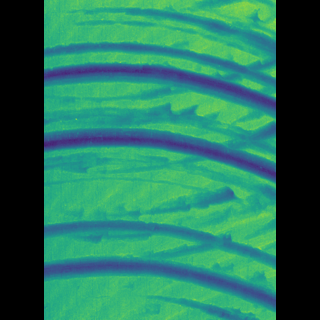Loch: (73, 0, 244, 187), (76, 248, 244, 315), (75, 215, 244, 274), (134, 181, 219, 221), (149, 289, 234, 320)
